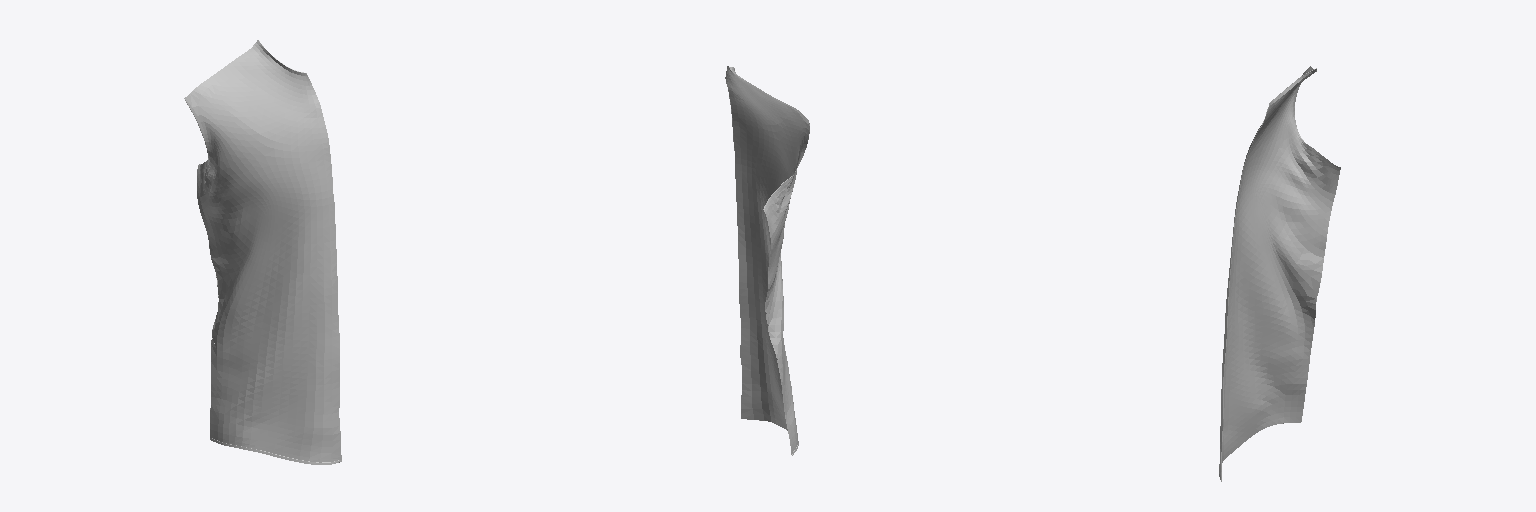
3 views of the same model, side by side, from view 1: azimuth 30°, elevation 25°; view 2: azimuth 150°, elevation 25°; view 3: azimuth 270°, elevation 25° (orthographic).
Visible parts, largest first — view 1: cropped:ZBrushPolyMesh3D1 cropped:polySurface529 polySurface640 ; view 2: cropped:ZBrushPolyMesh3D1 cropped:polySurface529 polySurface640 ; view 3: cropped:ZBrushPolyMesh3D1 cropped:polySurface529 polySurface640 .
Boxes of the visible parts, x1=… form: cropped:ZBrushPolyMesh3D1 cropped:polySurface529 polySurface640 : x1=184, y1=40, x2=341, y2=464; cropped:ZBrushPolyMesh3D1 cropped:polySurface529 polySurface640 : x1=725, y1=66, x2=809, y2=455; cropped:ZBrushPolyMesh3D1 cropped:polySurface529 polySurface640 : x1=1219, y1=66, x2=1340, y2=481.
Size of the model in its own units: 19.59 by 65.84 by 18.52.